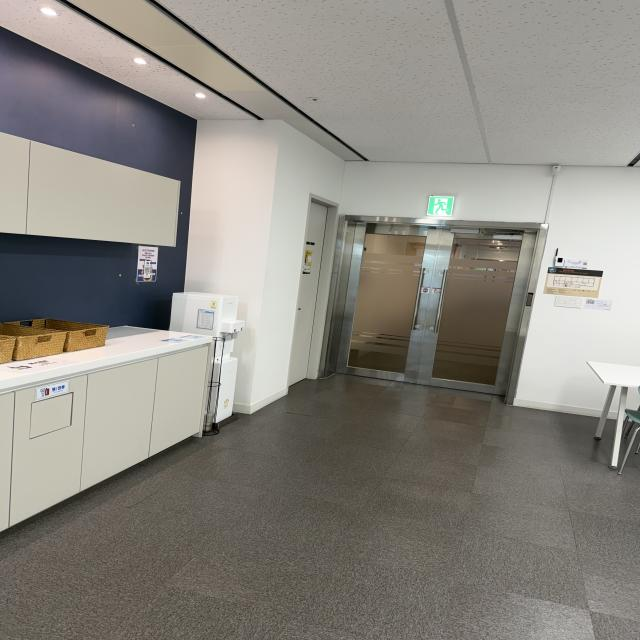rear_door: (347, 225, 517, 392)
